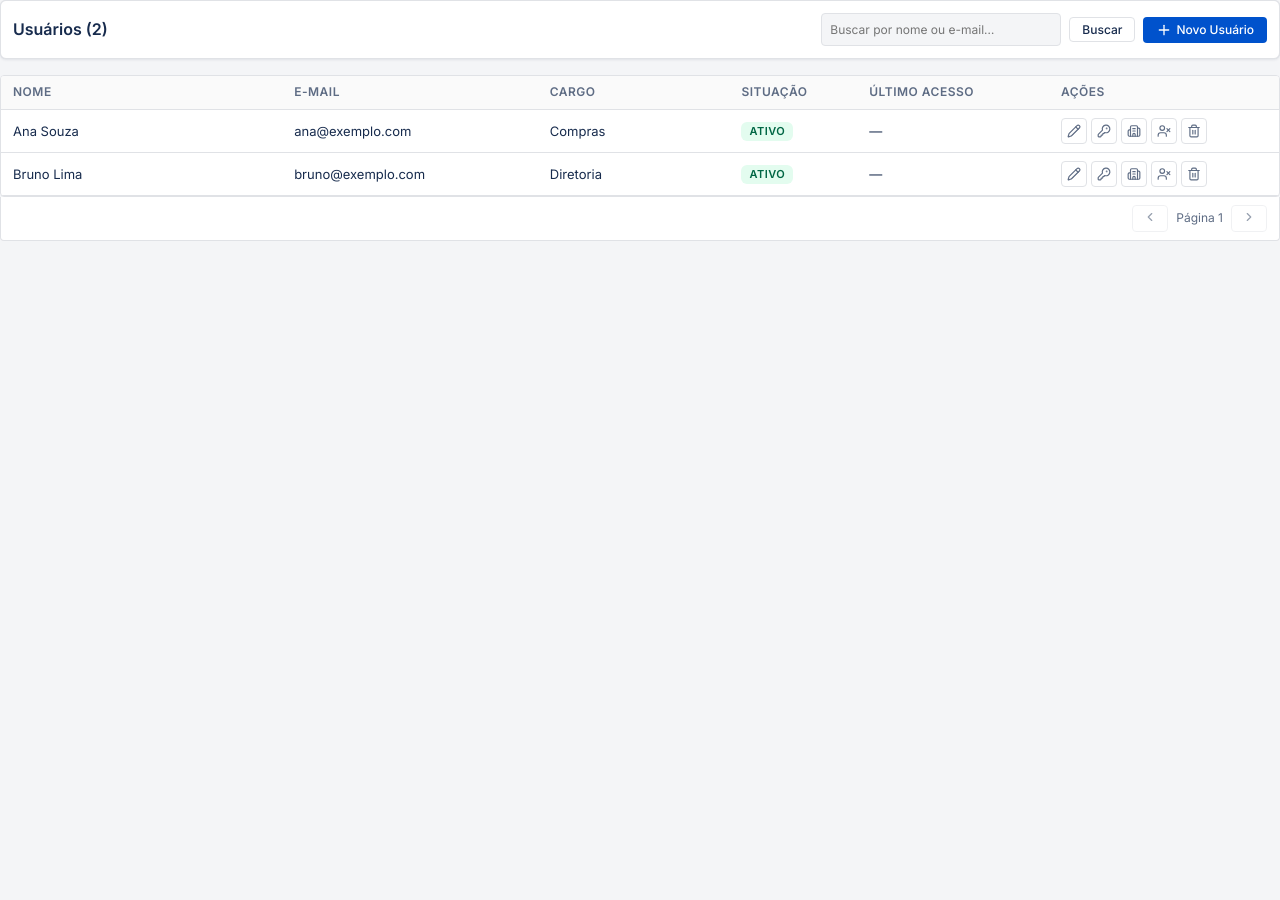
Test: Usuarios › avisa no modal quando o cargo do usuário é de administrador
Expected: the text "Bruno Lima" is shown, left=1, top=152, right=282, bottom=195
Click the button named "Empresas do usuário" in the row of "Bruno Lima" at (1134, 174), box left=1121, top=161, right=1147, bottom=187
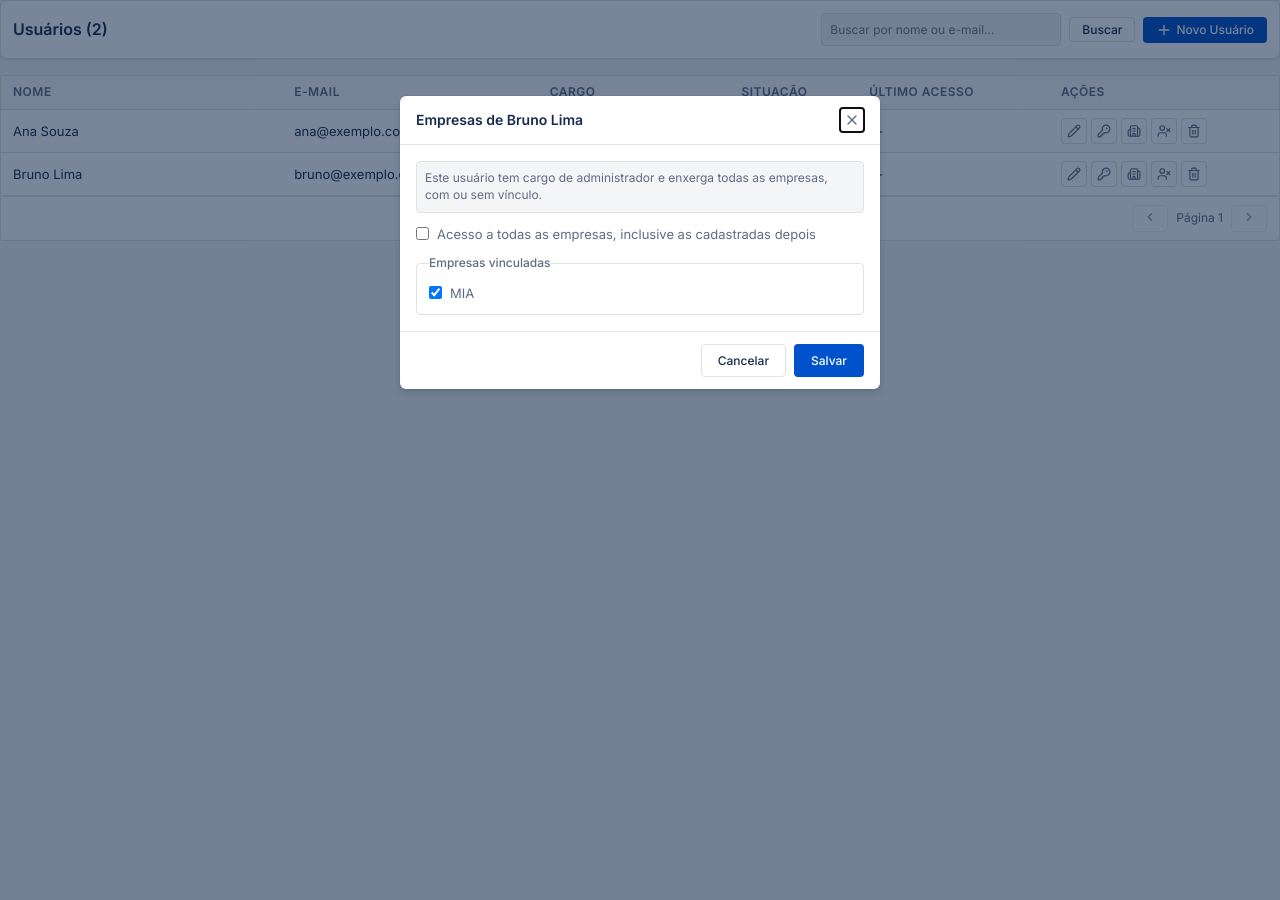
Expected: the text "cargo de administrador" is shown, left=425, top=170, right=828, bottom=202
